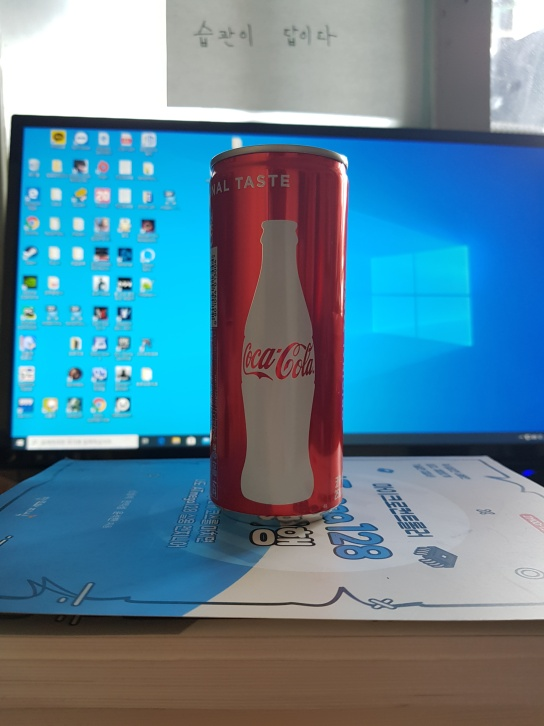Can: (209, 144, 352, 521)
